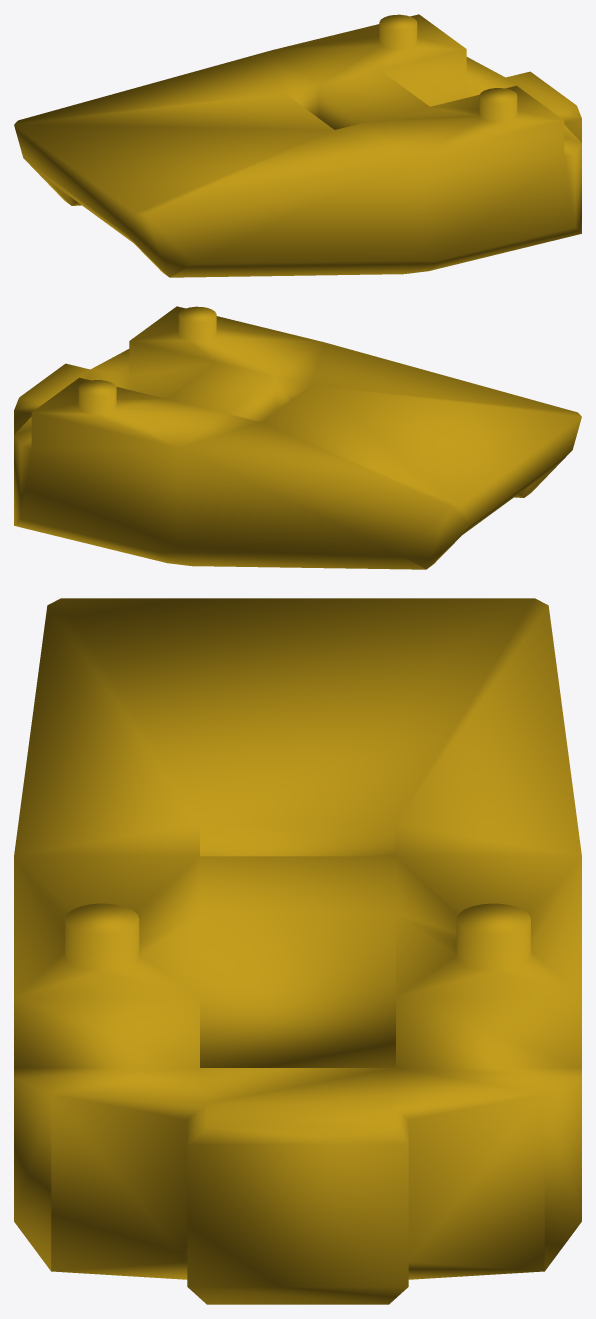
Rendered from wx200_9_gripper_finger.obj.
3 views of the same model, one above another, from view 1: azimuth 30°, elevation 25°; view 2: azimuth 150°, elevation 25°; view 3: azimuth 270°, elevation 25° (orthographic). The views are drawn at different scales.
Size of the model in its own units: 55.3 by 16.05 by 29.
